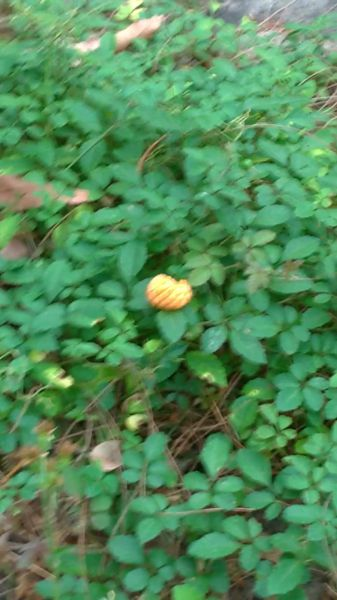eggs: (139, 264, 199, 321)
